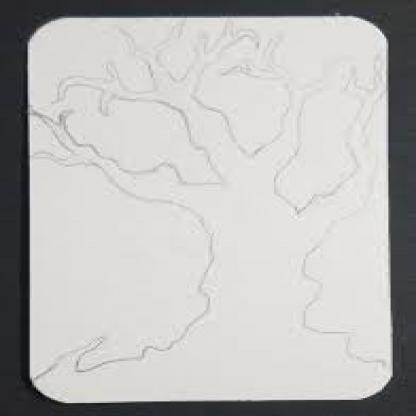trunk_reflex: (186, 240, 352, 340)
